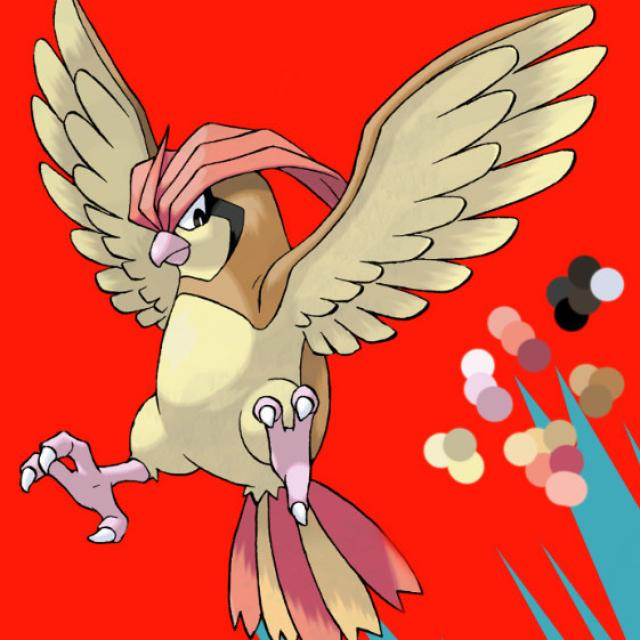Pidgeotto: (21, 74, 428, 640)
